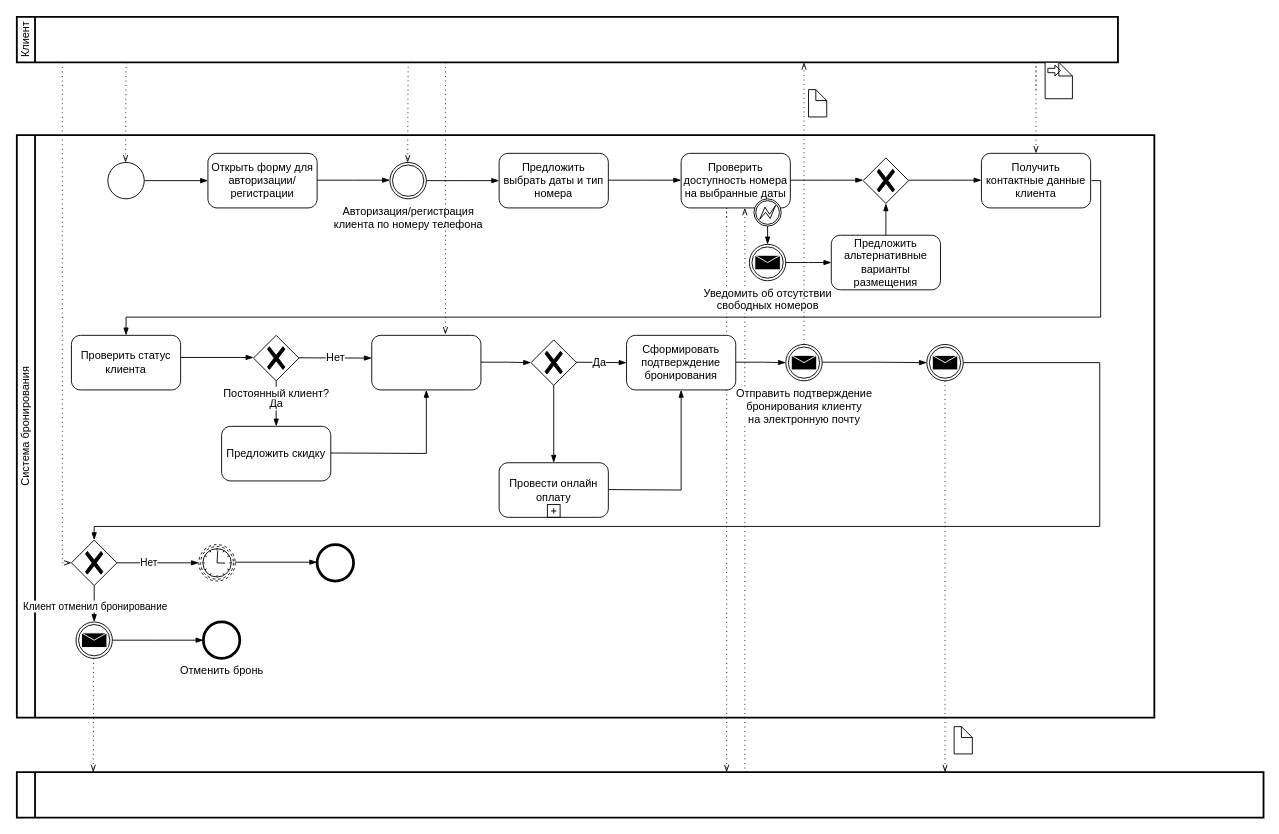
This 1279x834 diagram has some shape labels left out. The shapes that lost their labels are listed below. From the top down, each one's box as (x1, y1, x2, y2) in pixels, then its label:
(1044, 61, 1072, 99): ФИО, телефон, эл.почта
(107, 162, 144, 199): Поступление обращения клиента
(371, 334, 481, 390): Предложить выбрать способ оплаты
(530, 339, 576, 385): Клиент выбрал офлайн оплату?
(926, 344, 963, 381): Направить информацию о заезде гостя в службу размещения
(198, 544, 235, 581): Дата заезда
(75, 621, 112, 658): Уведомить службу размещения
(15, 771, 1264, 818): Отель
